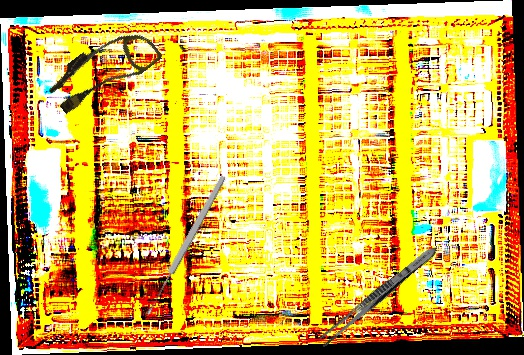Cannula: (42, 15, 164, 125)
Dressing Forceps: (315, 241, 442, 351)
Surgical Spoon: (143, 173, 228, 318)
